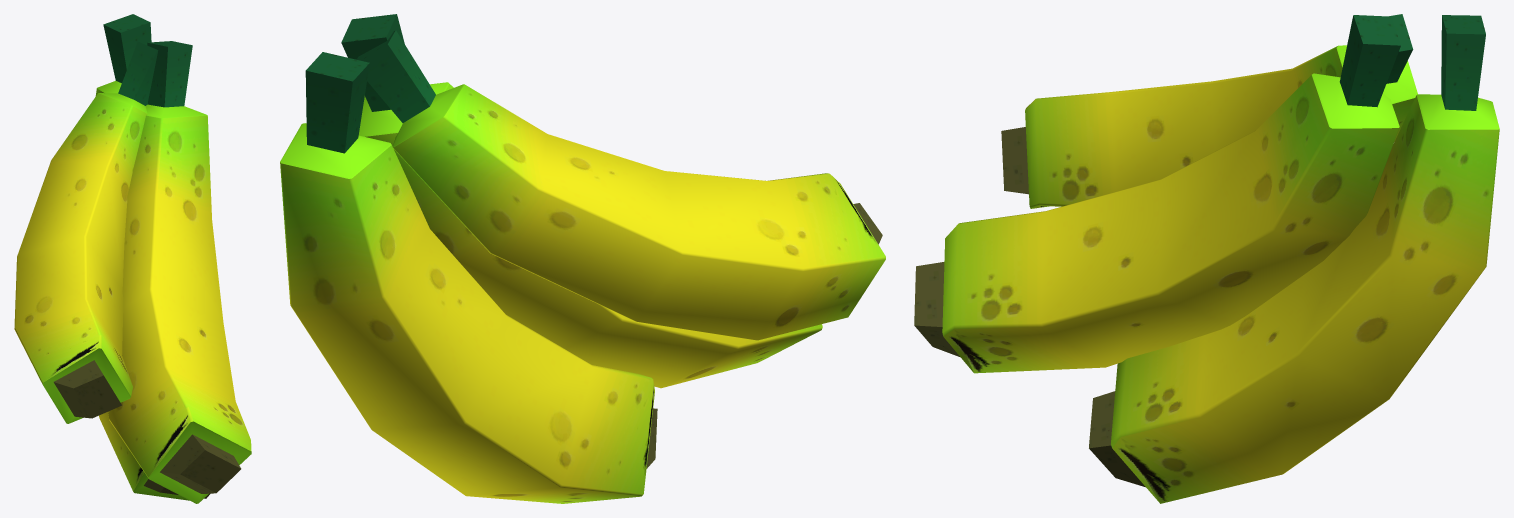
The model's file is Banana.fbx.
3 views of the same model, side by side, from view 1: azimuth 30°, elevation 25°; view 2: azimuth 150°, elevation 25°; view 3: azimuth 270°, elevation 25° (orthographic). The views are drawn at different scales.
Parts seen in each view (by area): view 1: pCube1.2, pCube4.3, pCube5.4; view 2: pCube5.4, pCube4.3, pCube1.2; view 3: pCube1.2, pCube5.4, pCube4.3.
Part boxes in pixels (x1=…): pCube1.2: x1=108, y1=41, x2=251, y2=503; pCube4.3: x1=14, y1=41, x2=158, y2=423; pCube5.4: x1=95, y1=14, x2=210, y2=500; pCube5.4: x1=280, y1=52, x2=657, y2=503; pCube4.3: x1=357, y1=30, x2=885, y2=340; pCube1.2: x1=341, y1=14, x2=822, y2=388; pCube1.2: x1=914, y1=15, x2=1400, y2=373; pCube5.4: x1=1089, y1=15, x2=1499, y2=503; pCube4.3: x1=1001, y1=14, x2=1417, y2=208.
Bounding box in the file's own units: 0.1444 × 0.1904 × 0.1948.
Materials: 1 (1 with a texture image).
